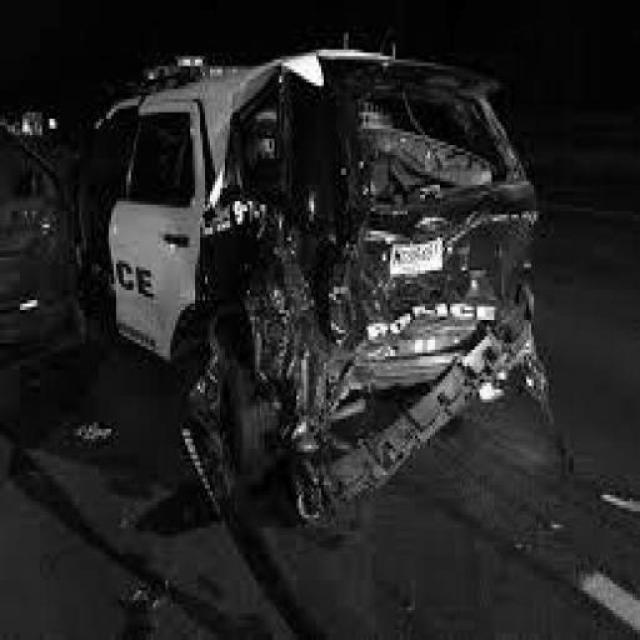crush: (192, 49, 546, 517)
